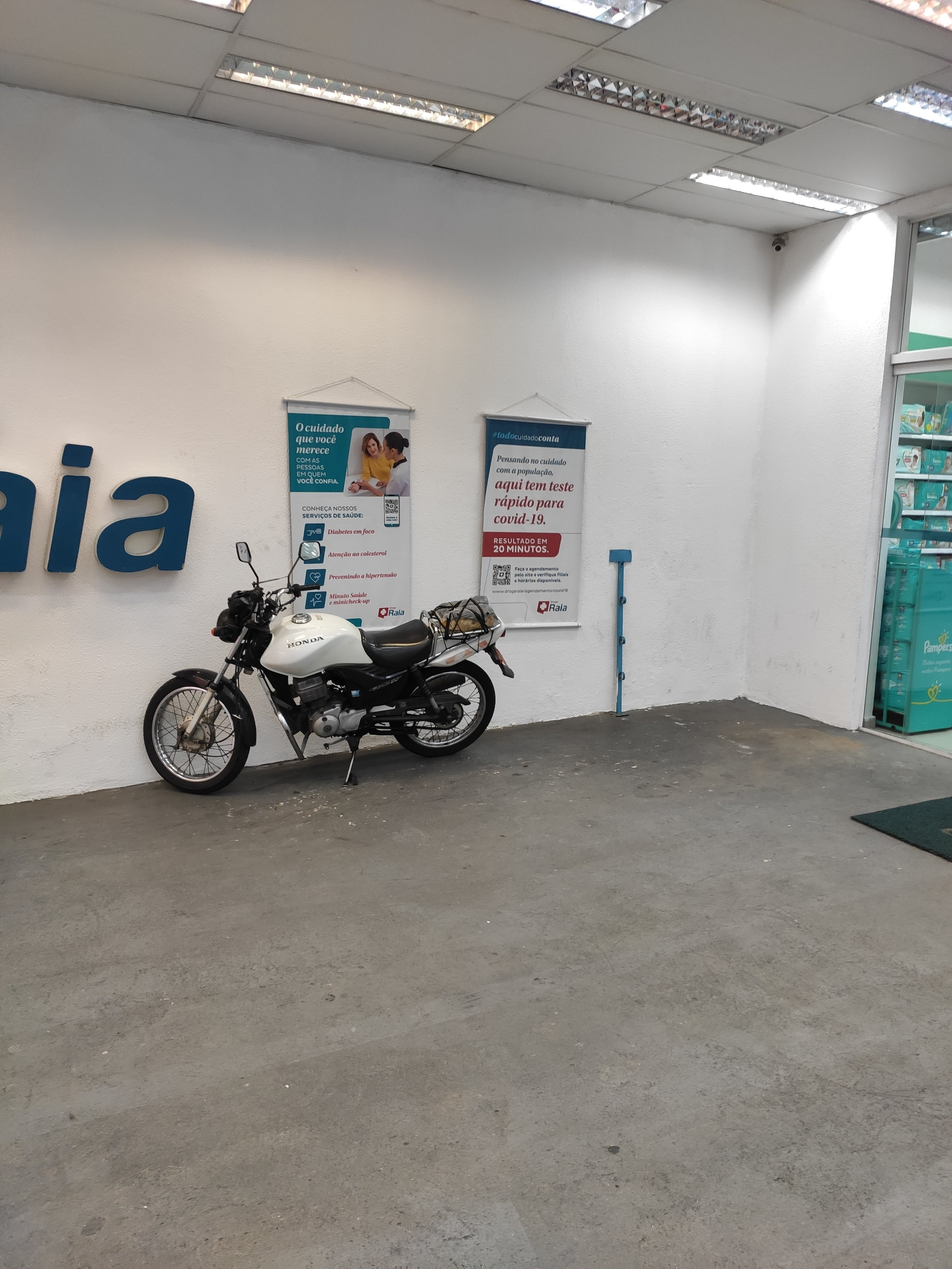QR-CODE: (492, 564, 511, 586), (385, 499, 398, 514)
